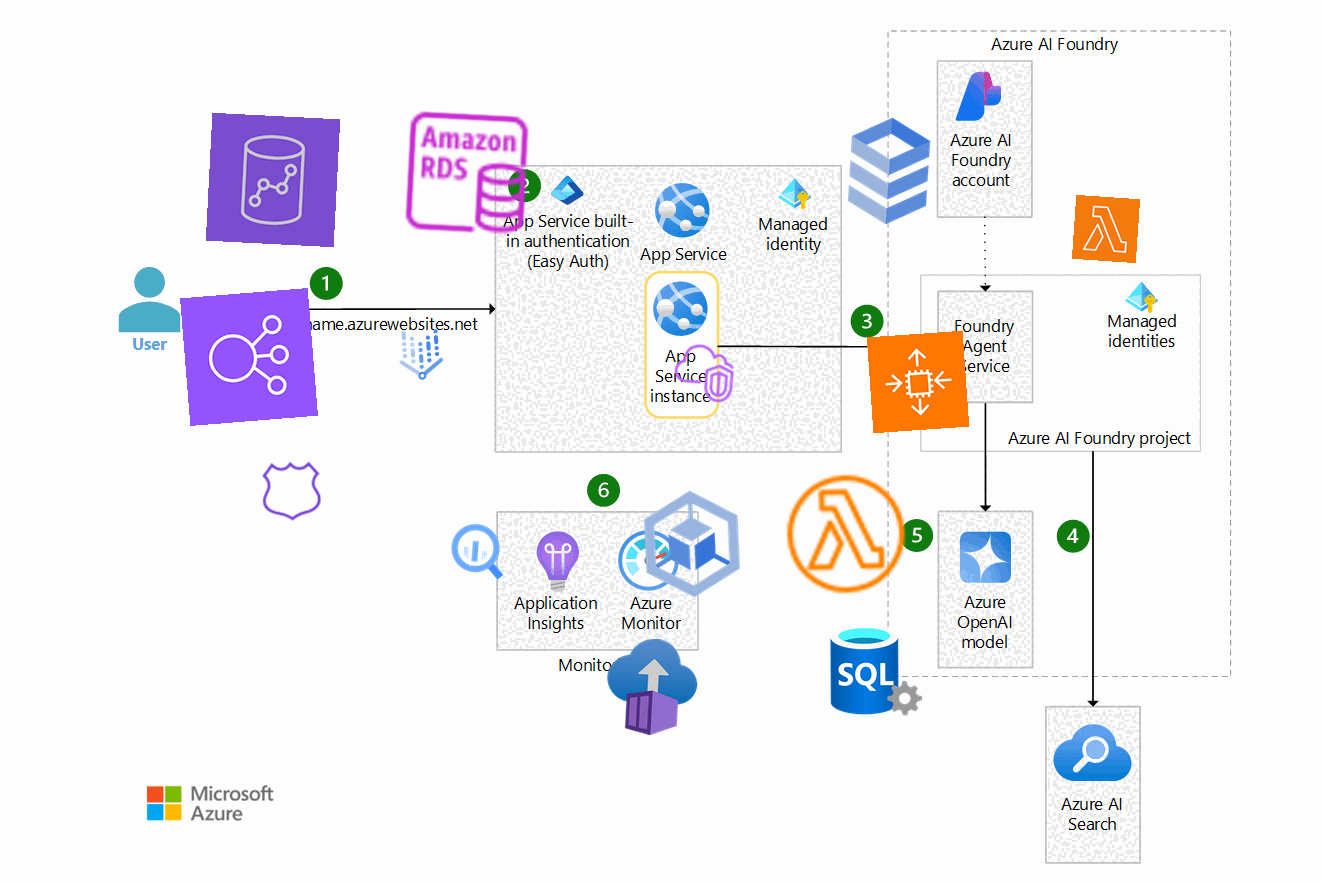aws_amazon_ec2_auto_scaling: (866, 330, 970, 434)
aws_amazon_redshift: (205, 112, 341, 248)
aws_aurora_amazon_rds_instance: (399, 105, 535, 241)
aws_elastic_load_balancing: (180, 288, 318, 426)
aws_lambda: (1071, 194, 1141, 264)
aws_lambda_lambda_function: (780, 468, 912, 600)
aws_route_53_hosted_zone: (258, 457, 326, 525)
aws_vpc_virtual_private_cloud_vpc: (669, 338, 739, 408)
azure_container_instances: (601, 636, 703, 738)
azure_sql_server: (827, 621, 925, 719)
gcp_bigquery: (443, 516, 513, 586)
gcp_cloud_sql: (821, 103, 957, 239)
gcp_google_kubernetes_engine: (625, 477, 759, 611)
gcp_vertex_ai: (387, 321, 455, 389)
